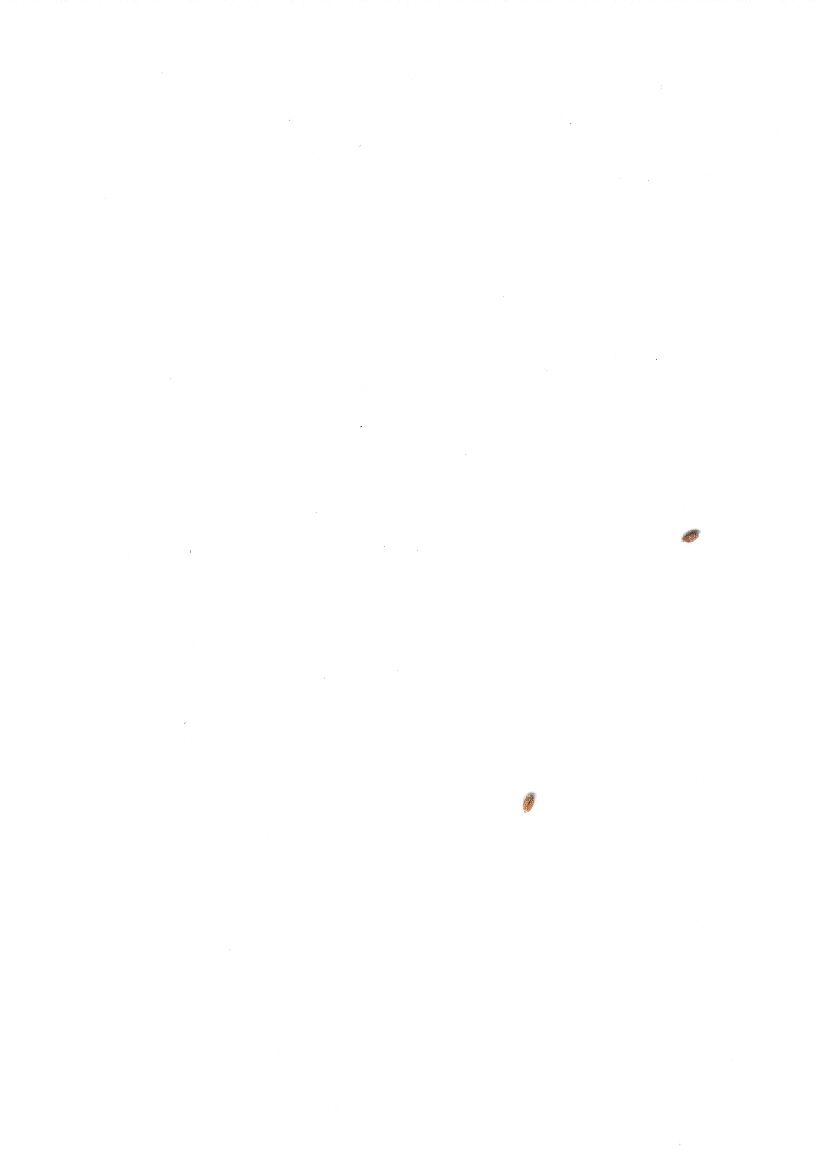grains: (672, 521, 706, 549), (514, 788, 540, 821)
